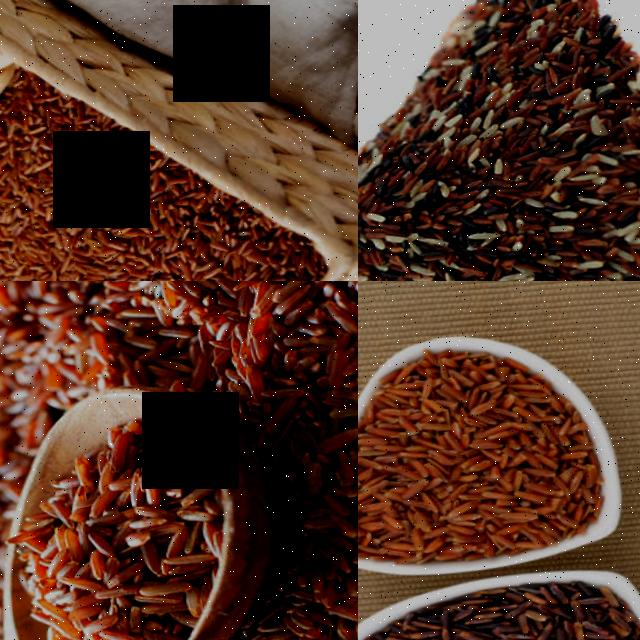red rice: (358, 0, 640, 281), (358, 321, 616, 593), (0, 90, 340, 281), (0, 400, 251, 640), (206, 281, 358, 640), (0, 281, 253, 411), (358, 547, 640, 640)
